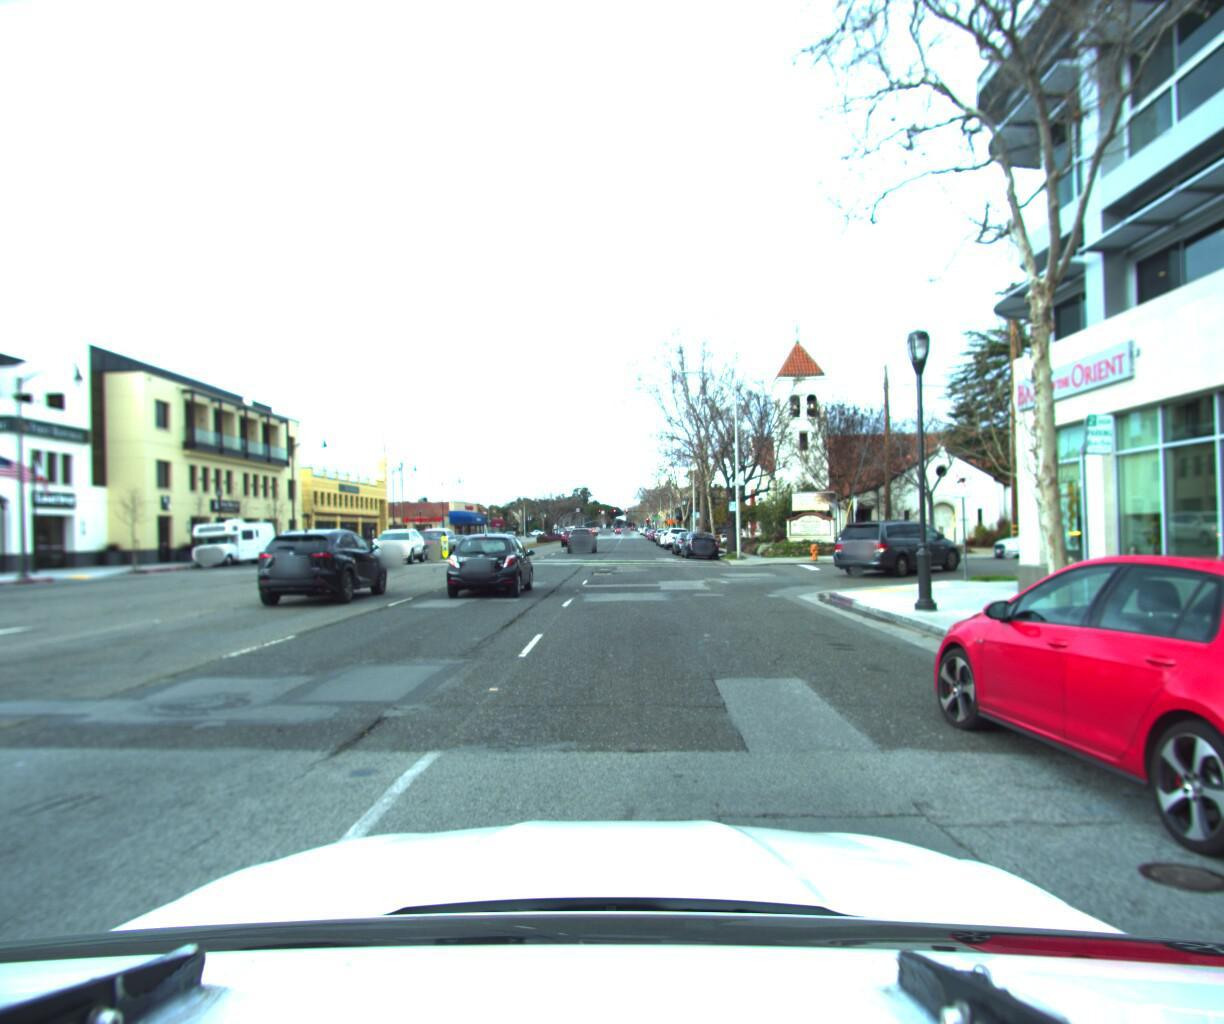car: (900, 534, 1224, 931), (243, 529, 395, 610), (1081, 504, 1224, 568), (828, 511, 958, 574), (440, 530, 538, 602), (980, 516, 1104, 555), (1127, 513, 1224, 550), (367, 527, 427, 563), (407, 524, 460, 557), (678, 526, 719, 554), (671, 526, 707, 553), (564, 522, 596, 550), (663, 522, 692, 546), (554, 525, 578, 543)
other_vehicle: (182, 514, 283, 567)
